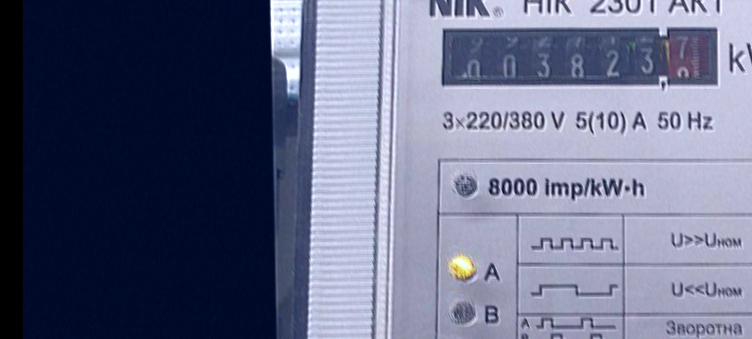0: (501, 49, 521, 76), (467, 54, 485, 77)
2: (606, 45, 625, 78)
3: (537, 47, 555, 77), (641, 44, 659, 74)
7: (677, 33, 694, 61)
8: (571, 49, 588, 77)
9: (468, 33, 487, 52)
screen: (436, 17, 725, 94)
